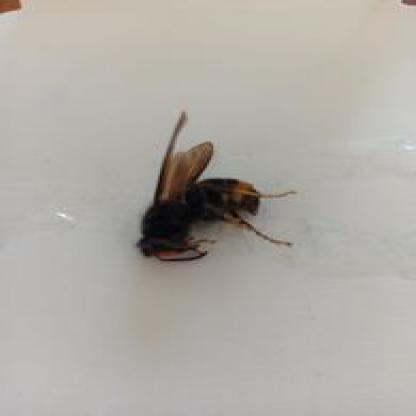Asian Hornet: (115, 108, 300, 266)
